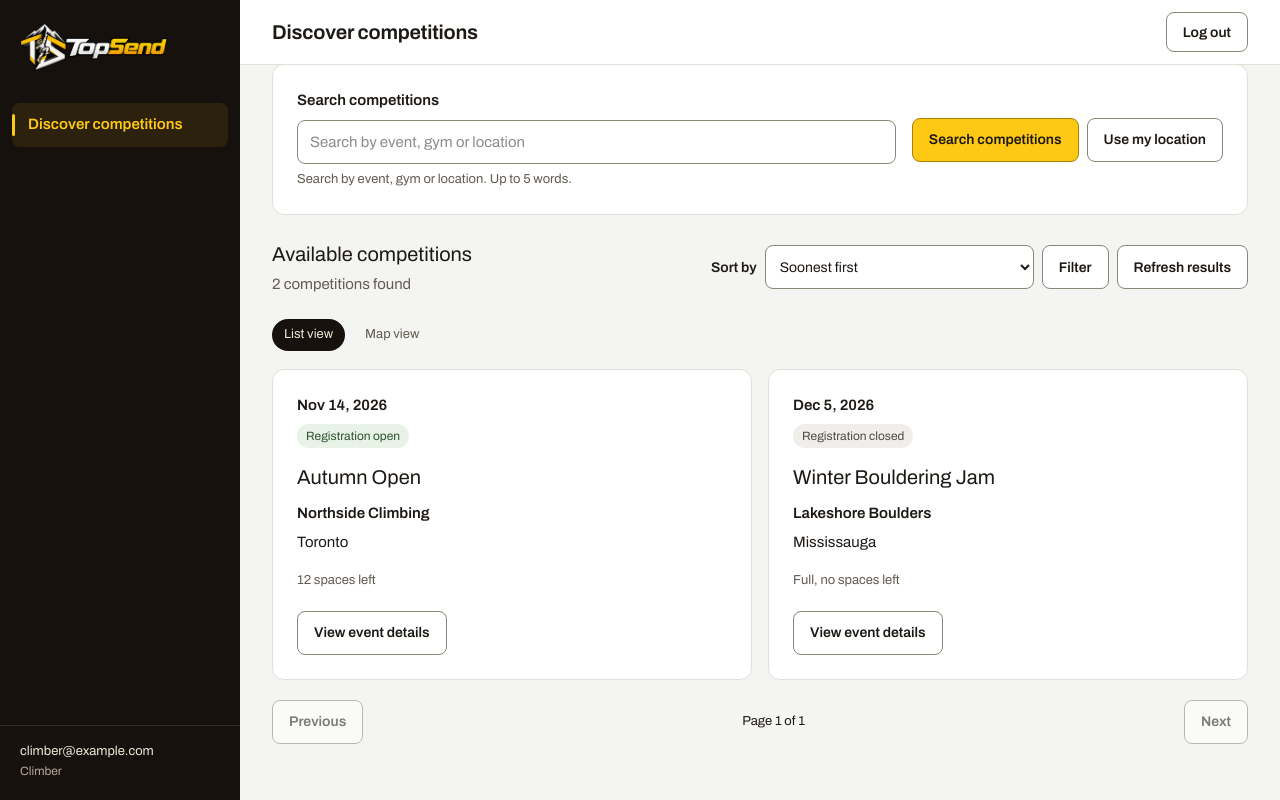
Test: US-026: Competition List View › opens the Event Details page of the competition the Climber selects (criteria 4 and 5)
(page scrolled)
Click the link with aria-label "View event details for Winter Bouldering Jam". click: click(868, 633)
box: [793,611,943,655]
(page scrolled)
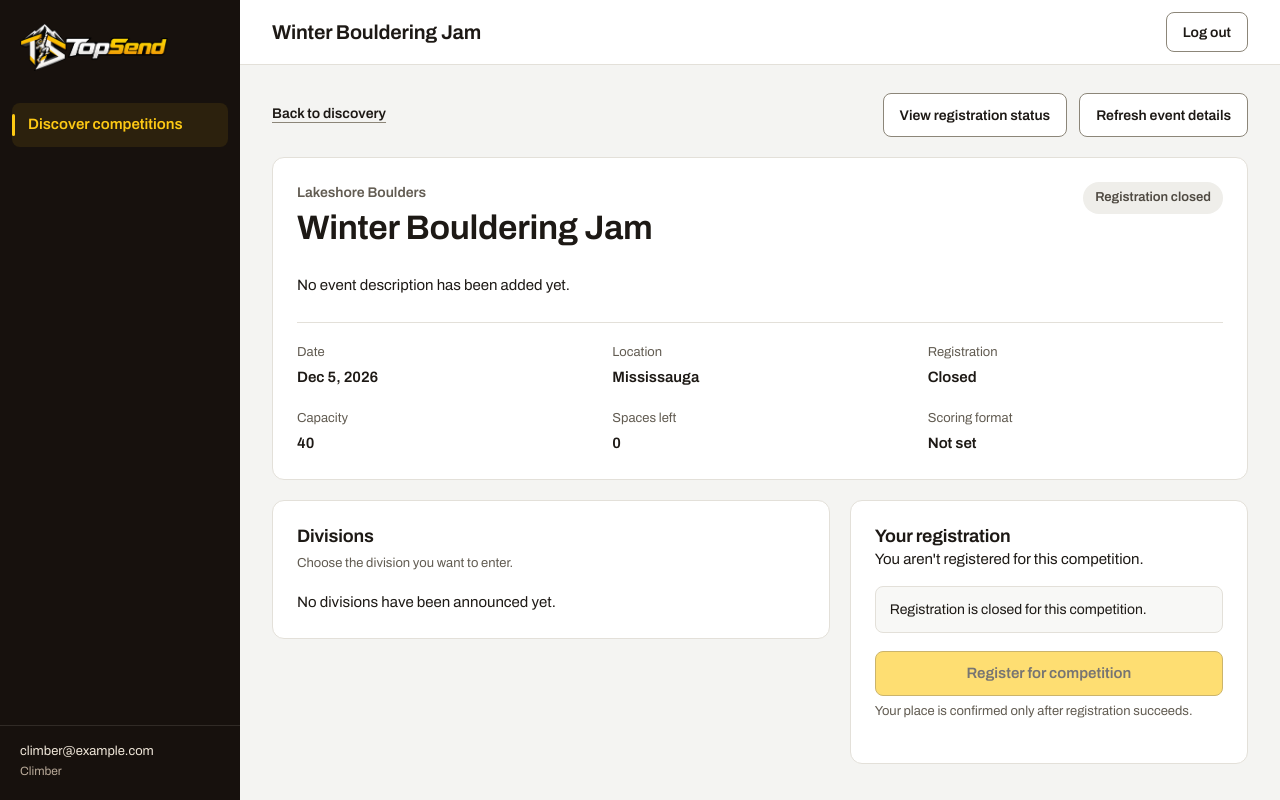
Check: the text "Lakeshore Boulders" is shown, box [297,185,426,200]
Check: the heading "Winter Bouldering Jam" below "Lakeshore Boulders" is shown, box [297,208,652,249]
